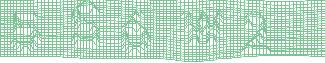2: (237, 11, 273, 55)
5: (9, 10, 43, 53)
6: (118, 8, 153, 57)
S: (69, 1, 103, 51)
w: (179, 7, 224, 48)
